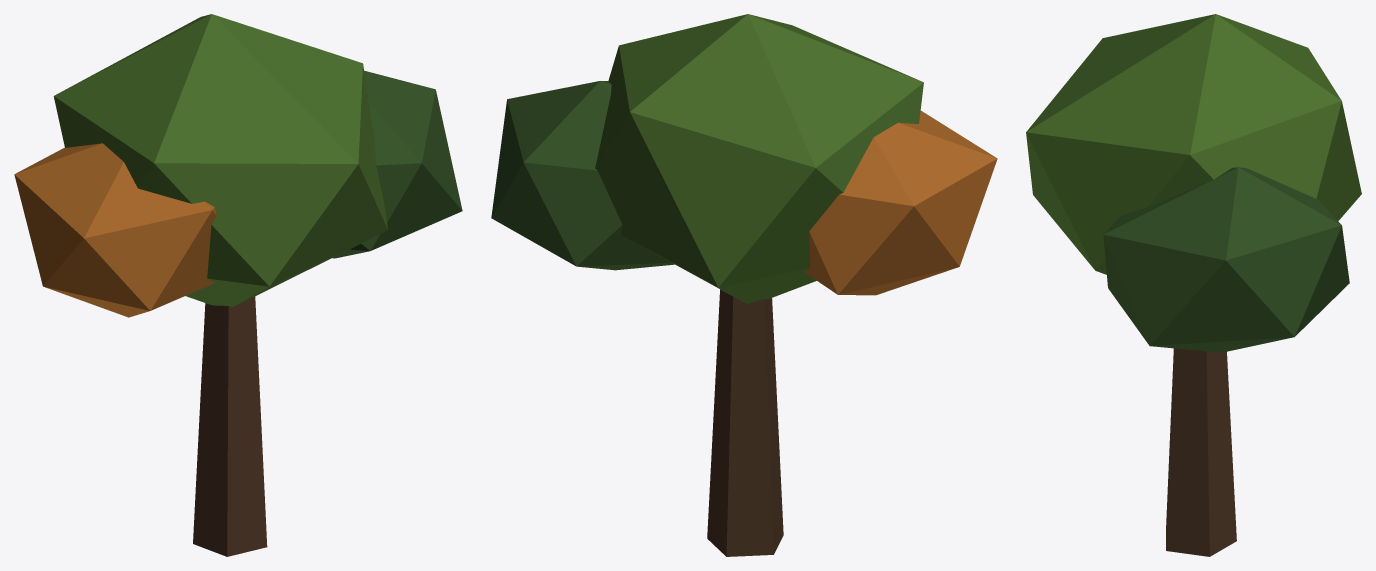
File: tree_oak_far.glb
3 views of the same model, side by side, from view 1: azimuth 30°, elevation 25°; view 2: azimuth 150°, elevation 25°; view 3: azimuth 270°, elevation 25° (orthographic). The views are drawn at different scales.
Parts seen in each view (by area): view 1: tree_oak_far; view 2: tree_oak_far; view 3: tree_oak_far.
Part boxes in pixels (box(x1,y1,x2,y2)): tree_oak_far: box(14, 14, 462, 556); tree_oak_far: box(491, 14, 997, 556); tree_oak_far: box(1026, 14, 1361, 556).
Bounding box in the file's own units: 3.43 × 4.11 × 2.39.
